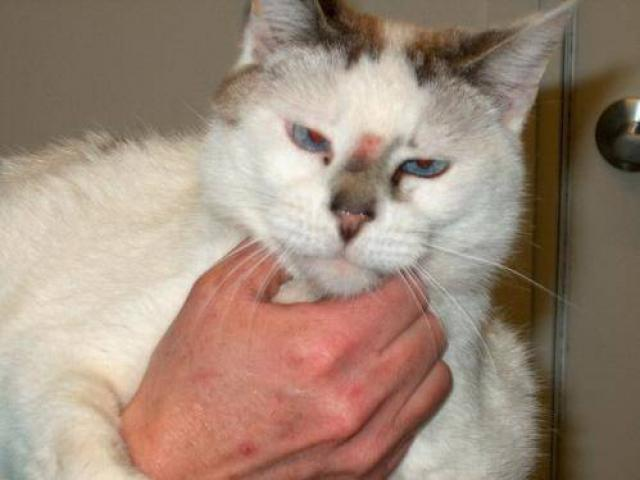cat: (72, 5, 580, 385)
